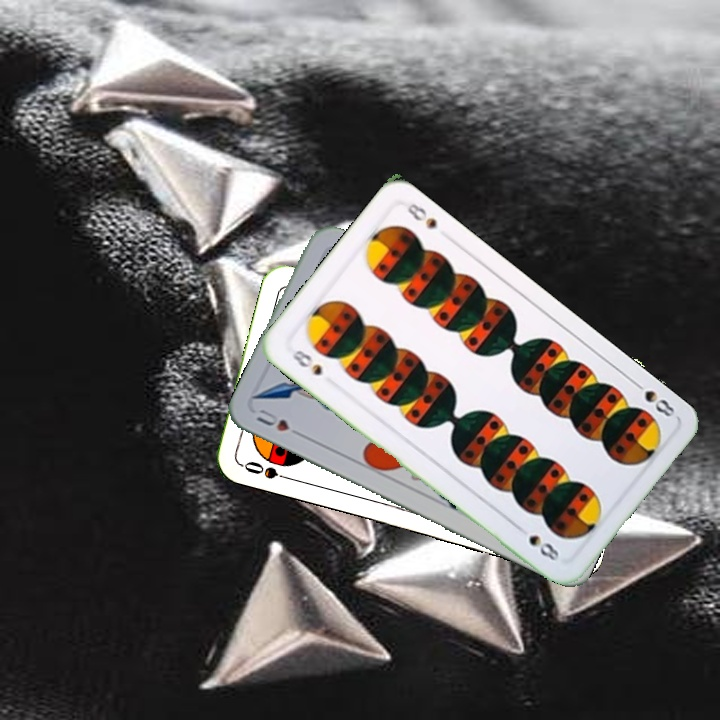HU: (252, 405, 307, 441)
S8: (628, 376, 679, 420), (287, 345, 325, 379)
SO: (238, 457, 296, 484)
